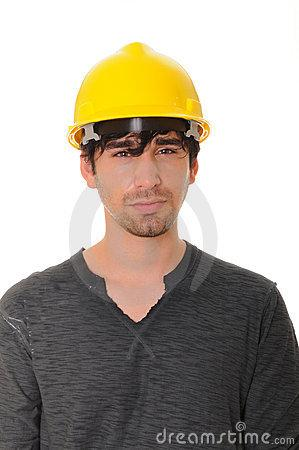helmet: (67, 43, 211, 146)
